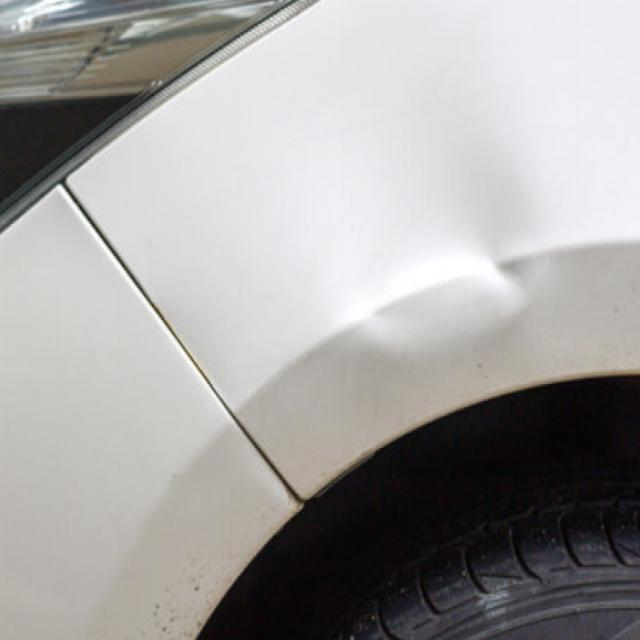dents: (358, 236, 548, 364)
